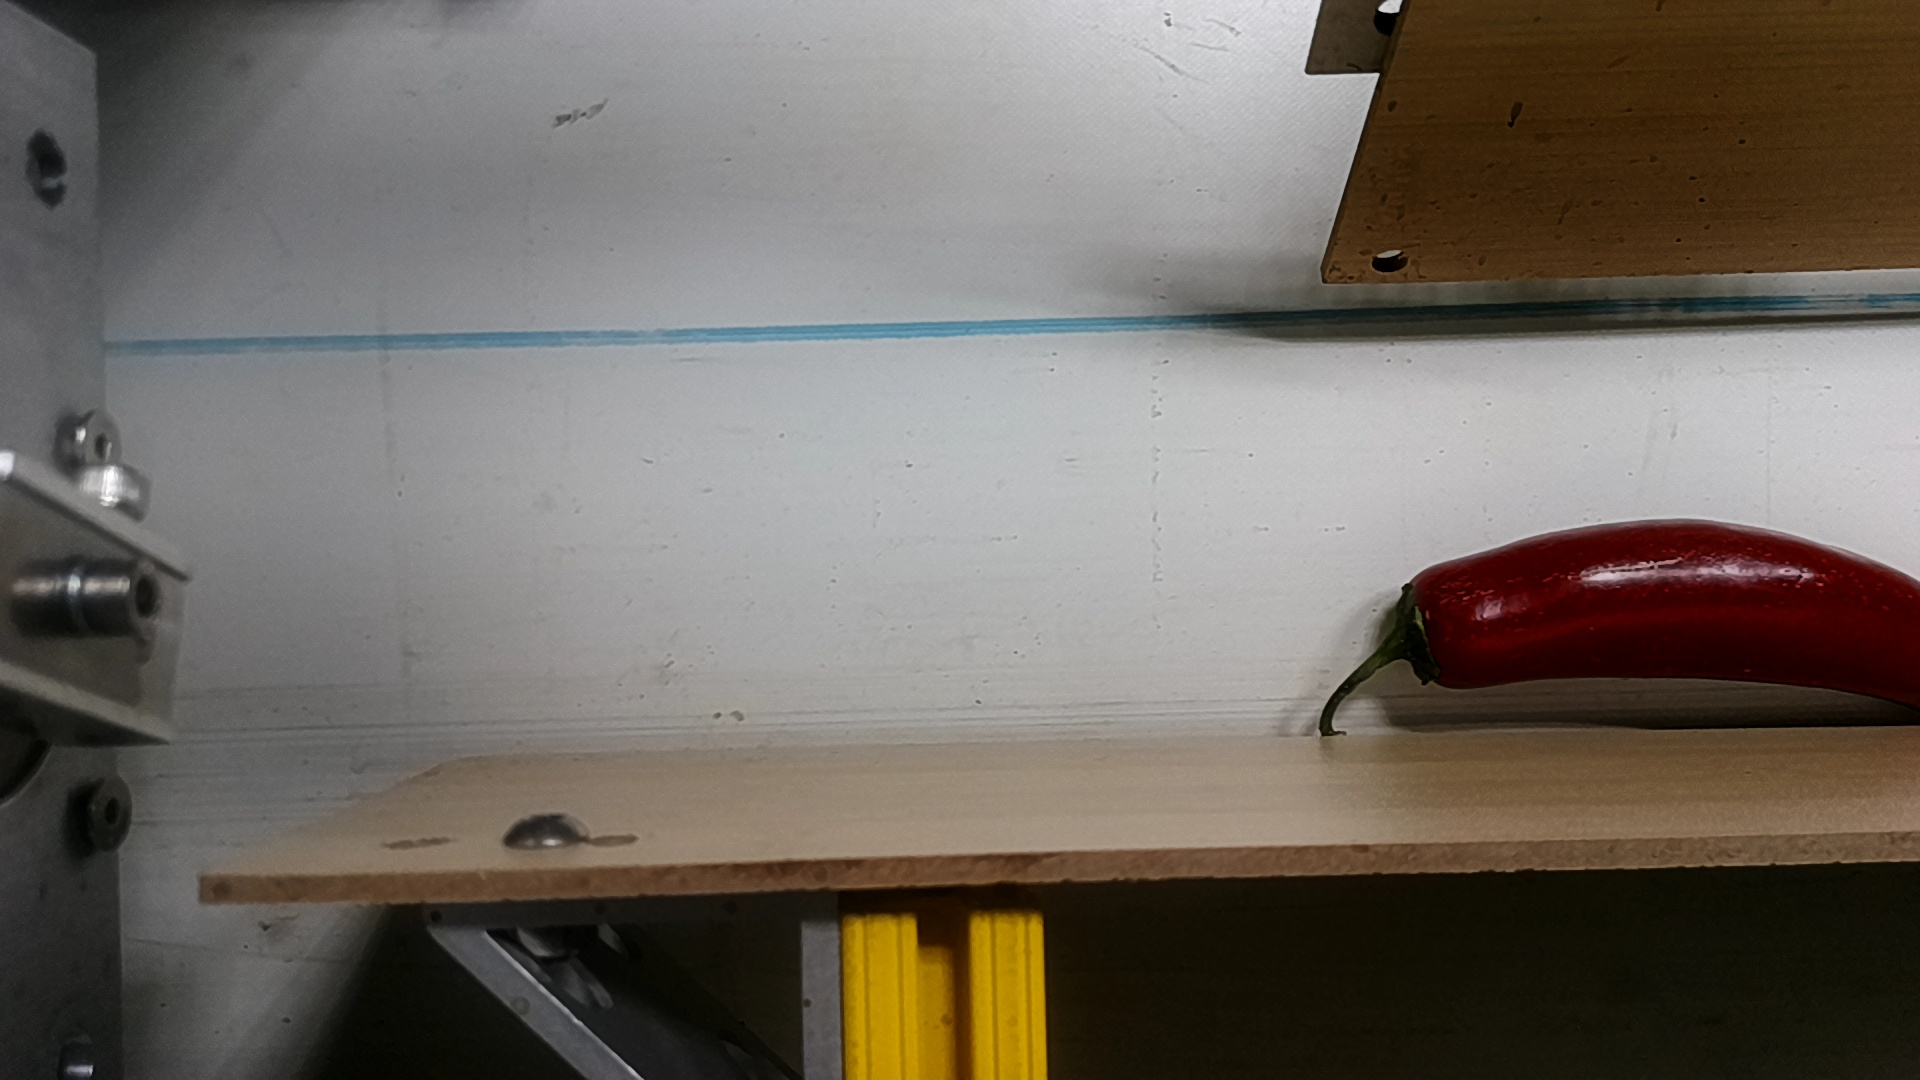Cut Point: (1370, 560, 1480, 696)
